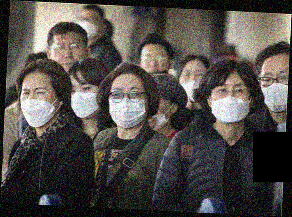with_mask: (210, 80, 254, 126), (20, 84, 59, 128), (108, 84, 148, 126), (259, 68, 289, 111), (69, 80, 101, 120), (180, 68, 207, 103)
without_mask: (48, 38, 86, 74), (139, 49, 172, 76)
